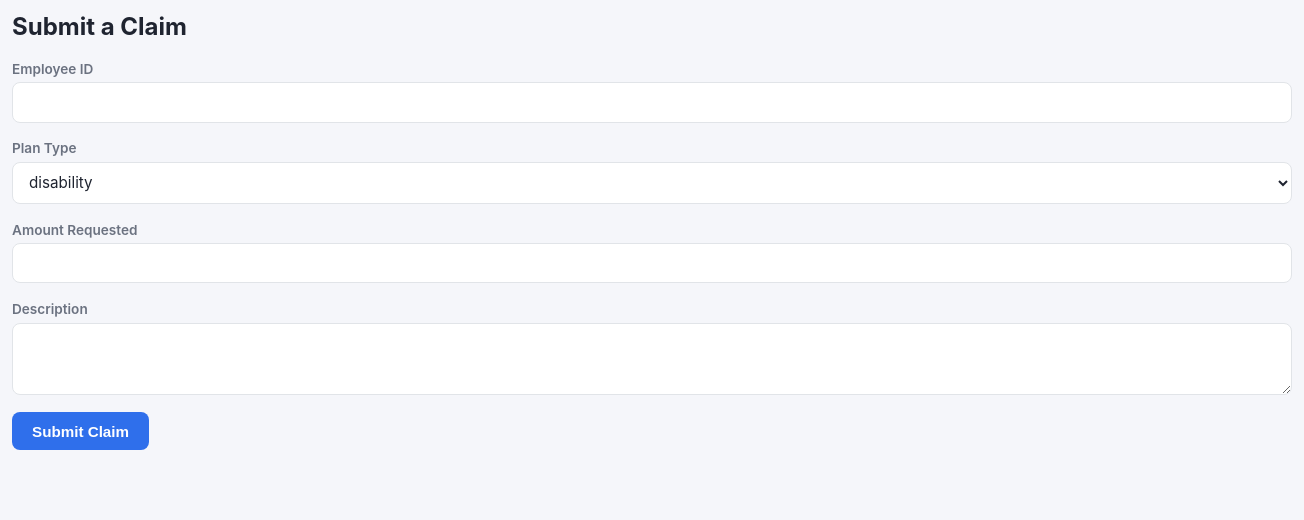
Test case: ClaimForm › blocks submit when required fields are missing
What coordinates should you click on to do the following:
click the button "Submit Claim"
I would click on:
 (80, 431)
Its box is [12, 412, 149, 450].
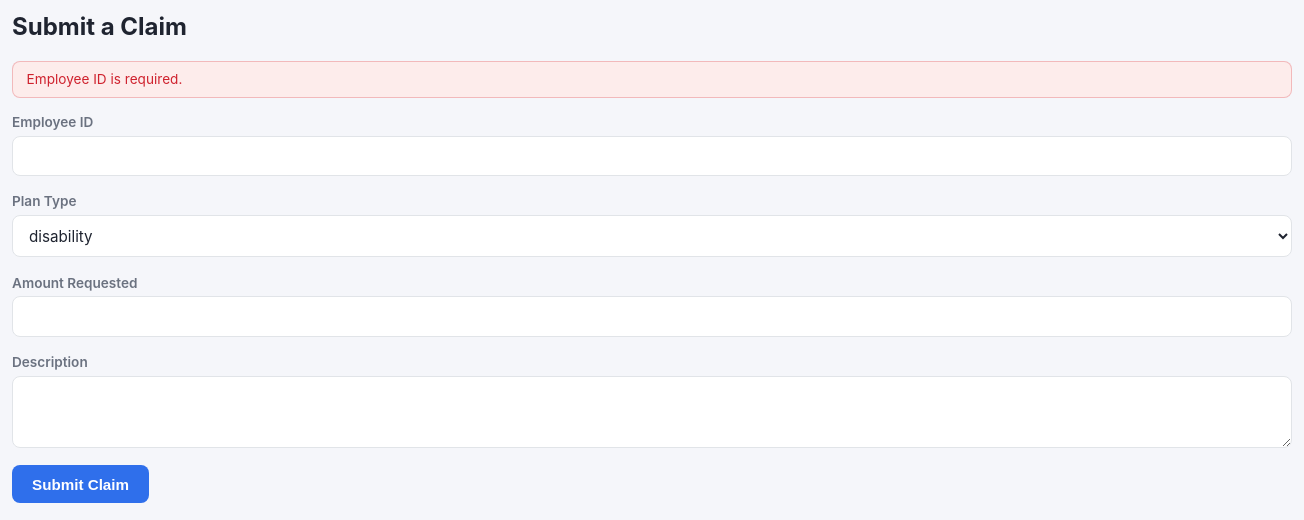
Expected: the message reads "Employee ID is required.", [27, 71, 182, 87]
